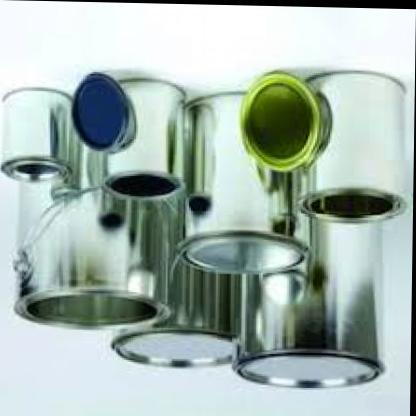Metal: (0, 50, 408, 406)
